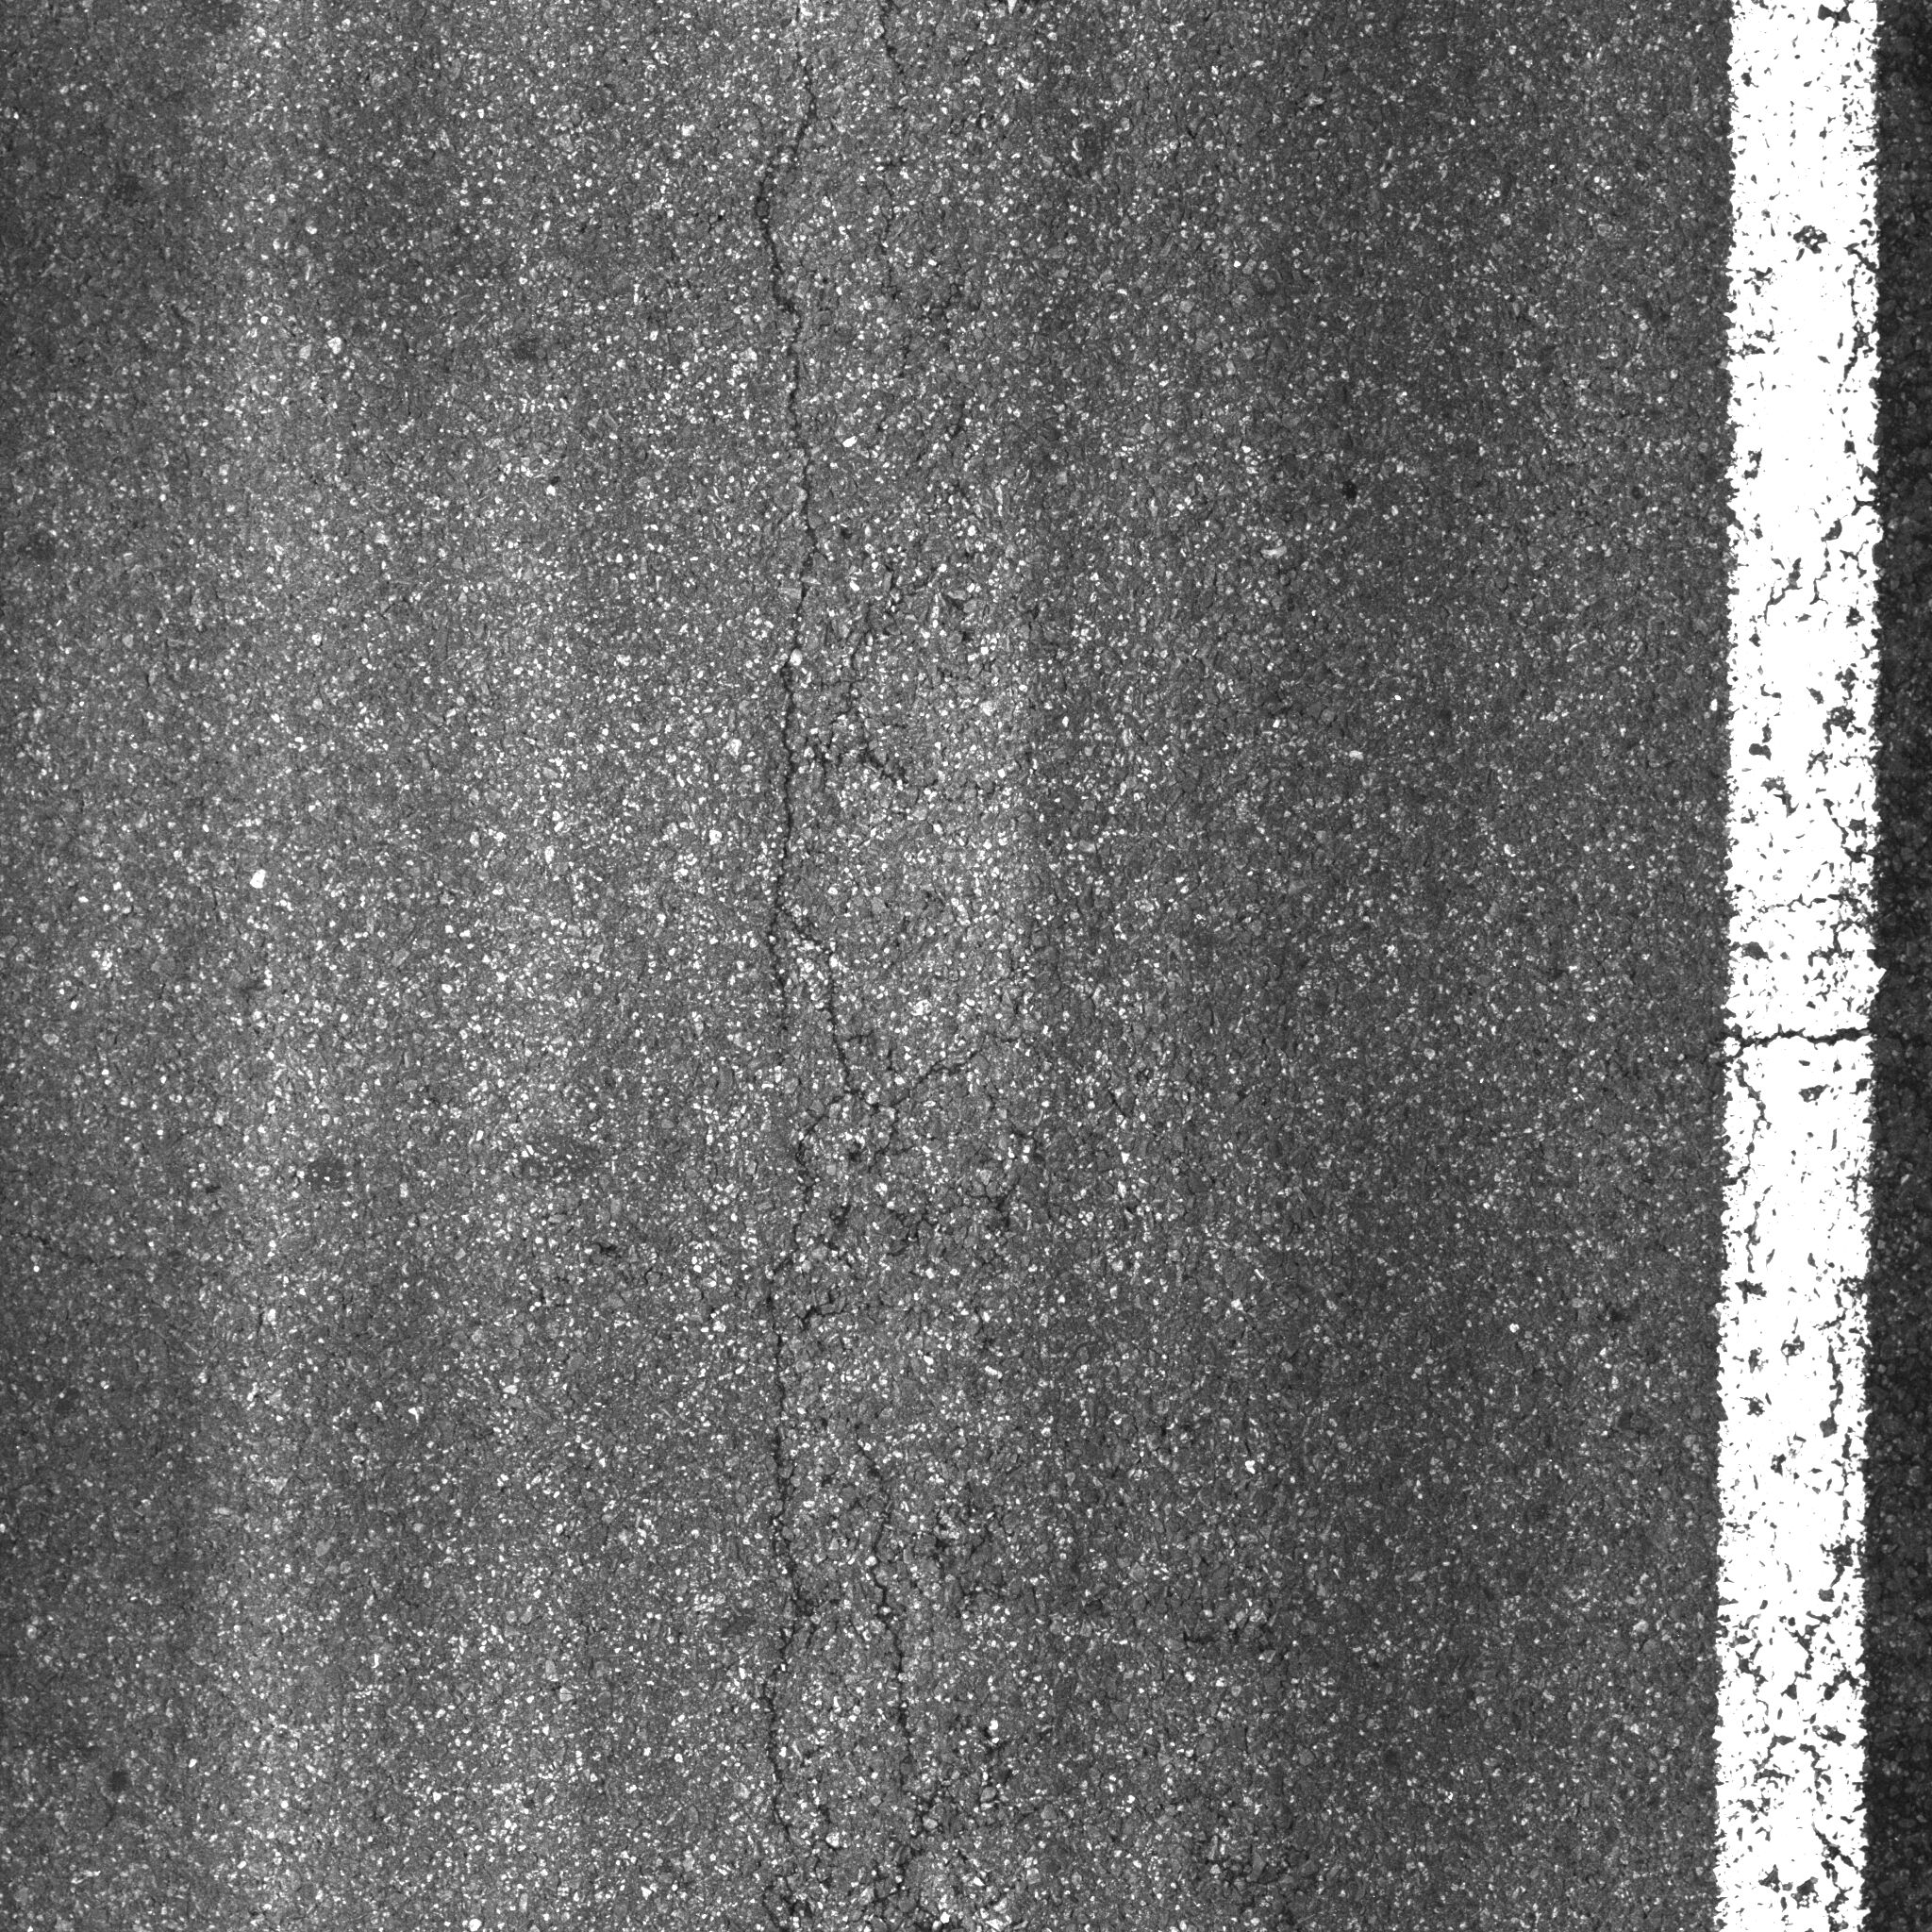longitudinal: (717, 19, 959, 1913)
